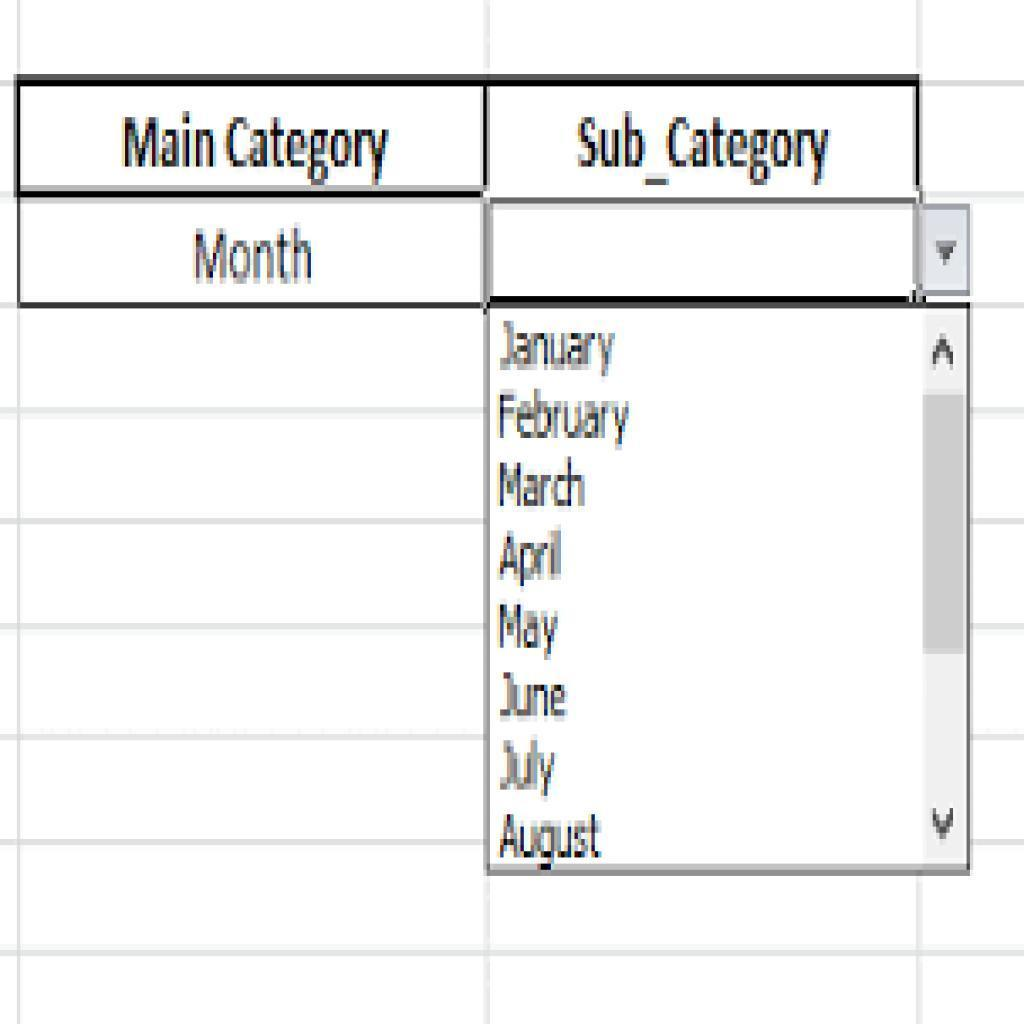dropdown: (486, 199, 972, 299)
